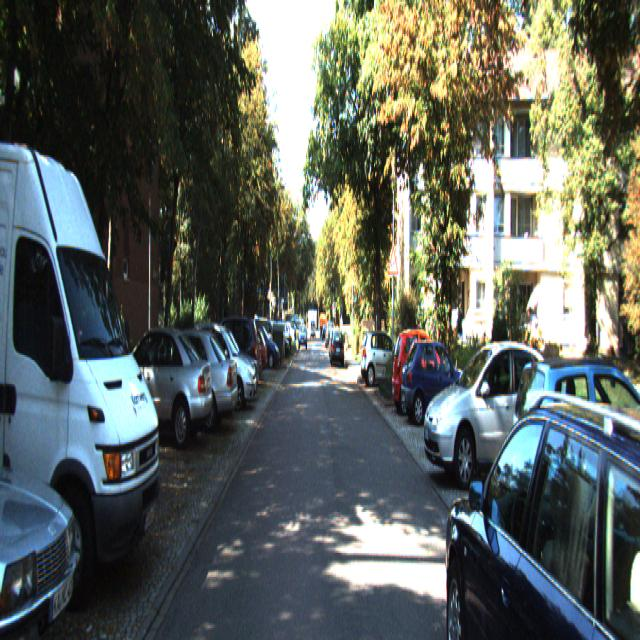Car: (443, 356, 639, 638), (508, 351, 639, 590), (422, 334, 576, 492), (97, 320, 216, 458), (142, 324, 239, 442), (400, 334, 474, 426), (186, 320, 258, 408), (391, 325, 456, 415), (361, 327, 410, 388), (238, 321, 280, 372), (329, 329, 344, 367)
DontCare: (281, 313, 306, 345), (321, 327, 331, 345), (310, 319, 314, 337)
Van: (0, 81, 167, 608)
